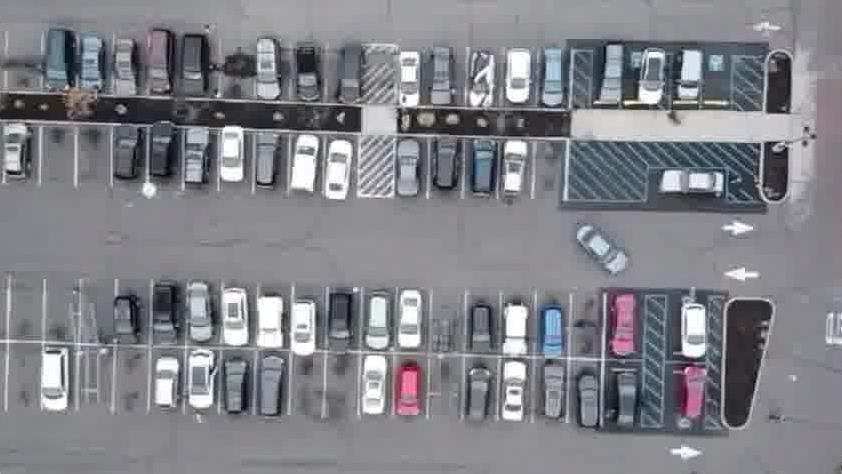car: (576, 223, 633, 278), (357, 286, 399, 348), (357, 354, 395, 421), (39, 347, 74, 417), (39, 25, 75, 90), (178, 36, 213, 101), (323, 135, 358, 200), (655, 165, 726, 197), (145, 27, 176, 96), (109, 130, 145, 189), (501, 359, 534, 423), (255, 351, 287, 417), (186, 354, 220, 416), (493, 137, 526, 200), (145, 127, 178, 190), (222, 360, 254, 423), (325, 290, 356, 355), (333, 45, 364, 109), (285, 136, 318, 196), (285, 300, 319, 358), (152, 280, 183, 343), (155, 351, 186, 414), (252, 129, 284, 190), (609, 292, 639, 357), (396, 284, 425, 349), (254, 40, 282, 107), (465, 363, 496, 423), (395, 357, 426, 417), (255, 298, 287, 356), (636, 46, 669, 102), (221, 293, 251, 354), (390, 139, 419, 201), (1, 128, 32, 186), (184, 283, 212, 347), (431, 132, 461, 191), (467, 138, 496, 199), (497, 300, 528, 357), (498, 45, 527, 105), (426, 47, 455, 107), (574, 364, 602, 426), (673, 48, 704, 104), (180, 127, 209, 186), (678, 362, 707, 421), (599, 46, 628, 104), (76, 37, 105, 95), (111, 292, 141, 348), (612, 361, 639, 423), (679, 296, 707, 355), (536, 46, 563, 107), (292, 44, 318, 107), (392, 54, 419, 114), (467, 49, 495, 106), (539, 358, 566, 417), (216, 129, 242, 190), (537, 301, 566, 354), (110, 38, 135, 99), (467, 304, 491, 357)
